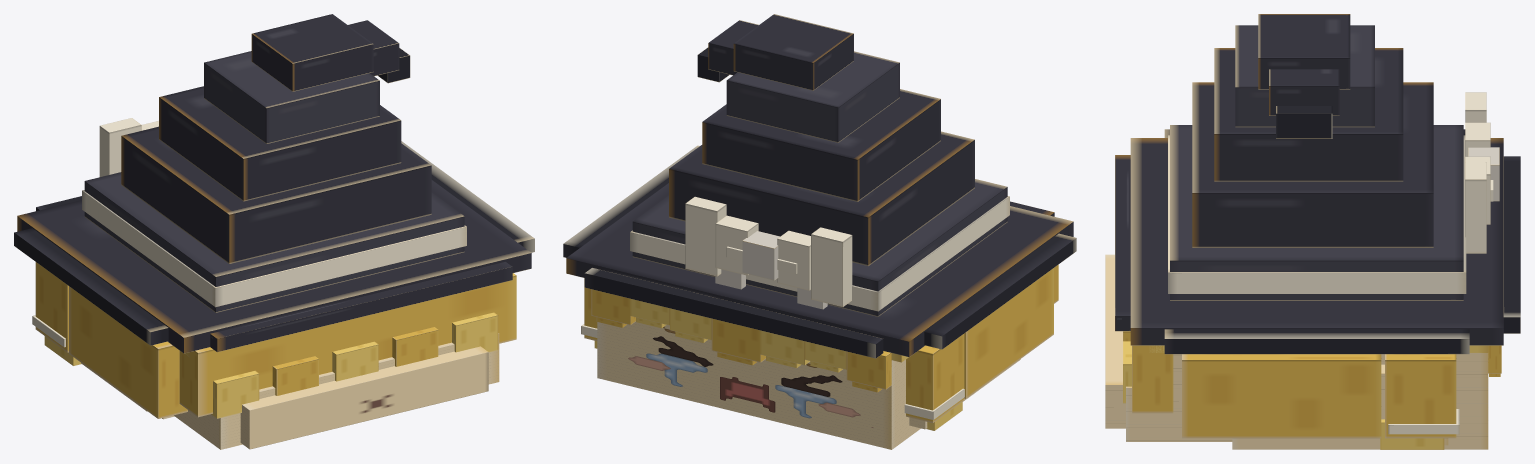
File: compression_marisa_3.obj
The picture shows the model from 3 angles, left to right: view 1: azimuth 30°, elevation 25°; view 2: azimuth 150°, elevation 25°; view 3: azimuth 270°, elevation 25°; orthographic projection. The views are drawn at different scales.
Visible parts, largest first — view 1: compression_marisa_3; view 2: compression_marisa_3; view 3: compression_marisa_3.
Boxes of the visible parts, box(x1,y1,x2,y2) form: compression_marisa_3: box(14, 14, 534, 449); compression_marisa_3: box(563, 14, 1076, 449); compression_marisa_3: box(1105, 14, 1520, 449).
Bounding box in the file's own units: 19 × 14.77 × 15.9.
1 material, 1 textured.
